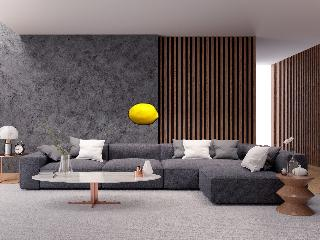lemon: (129, 105, 159, 125)
